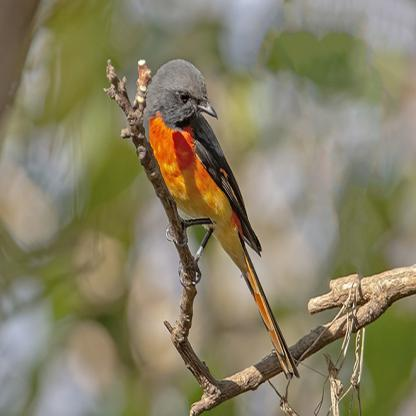Burung: (145, 59, 299, 381)
